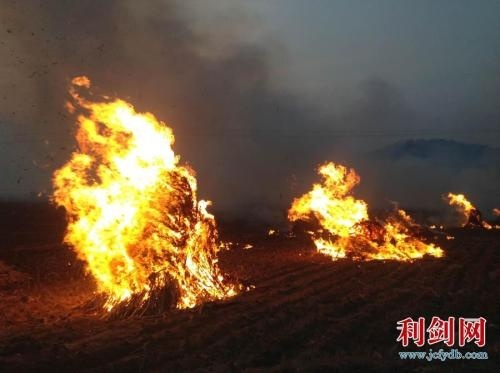fire: (52, 75, 237, 312), (287, 161, 449, 263), (445, 189, 500, 233)
